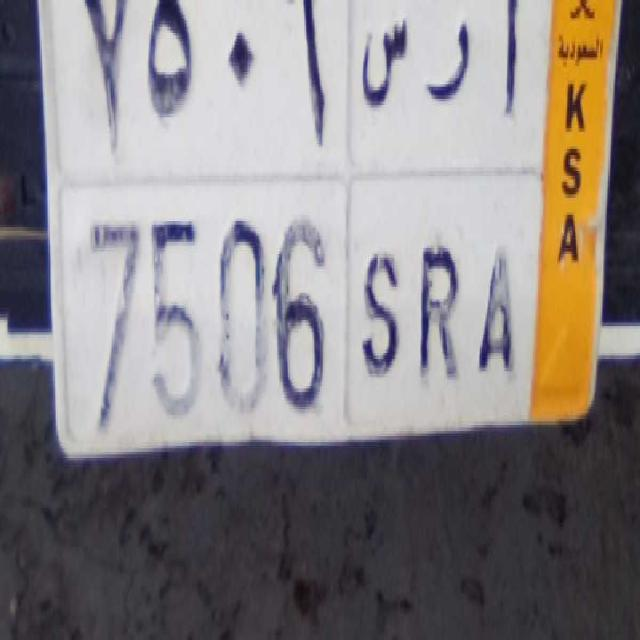license_plate: (50, 171, 535, 452)
